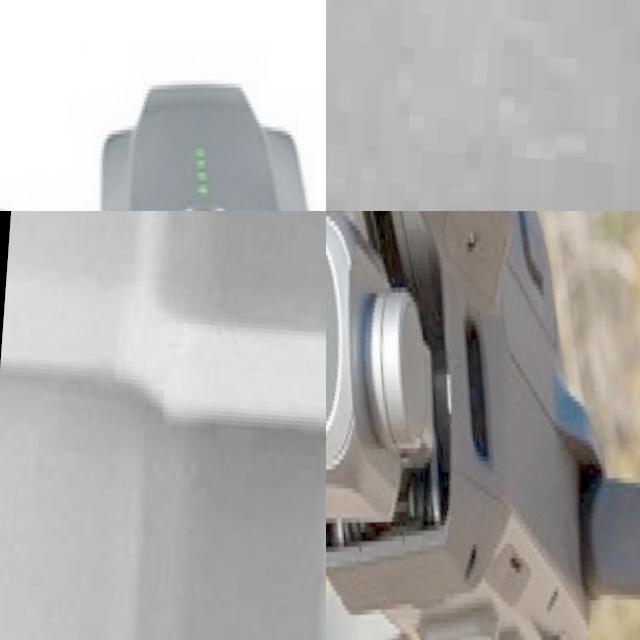drone: (326, 211, 640, 640), (0, 0, 326, 211)
